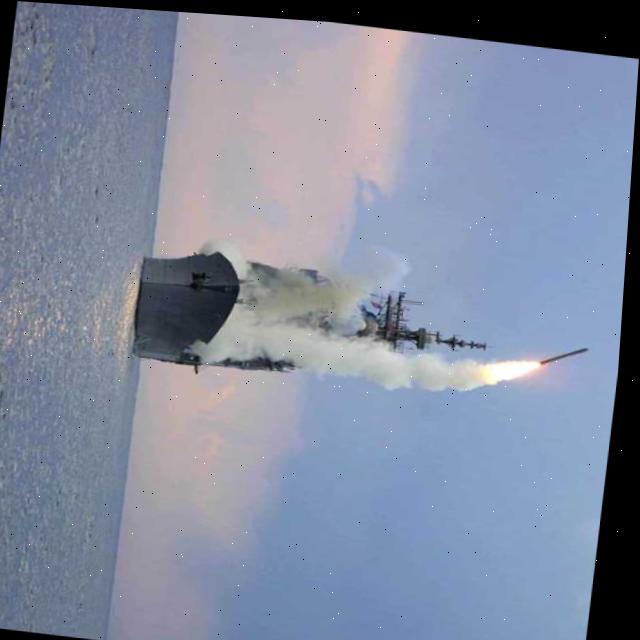missile: (542, 332, 597, 368)
